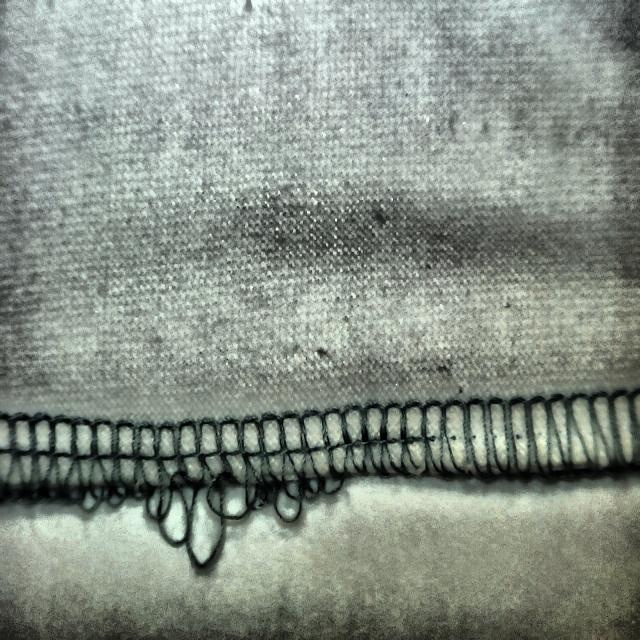Stitch: (44, 367, 364, 608)
